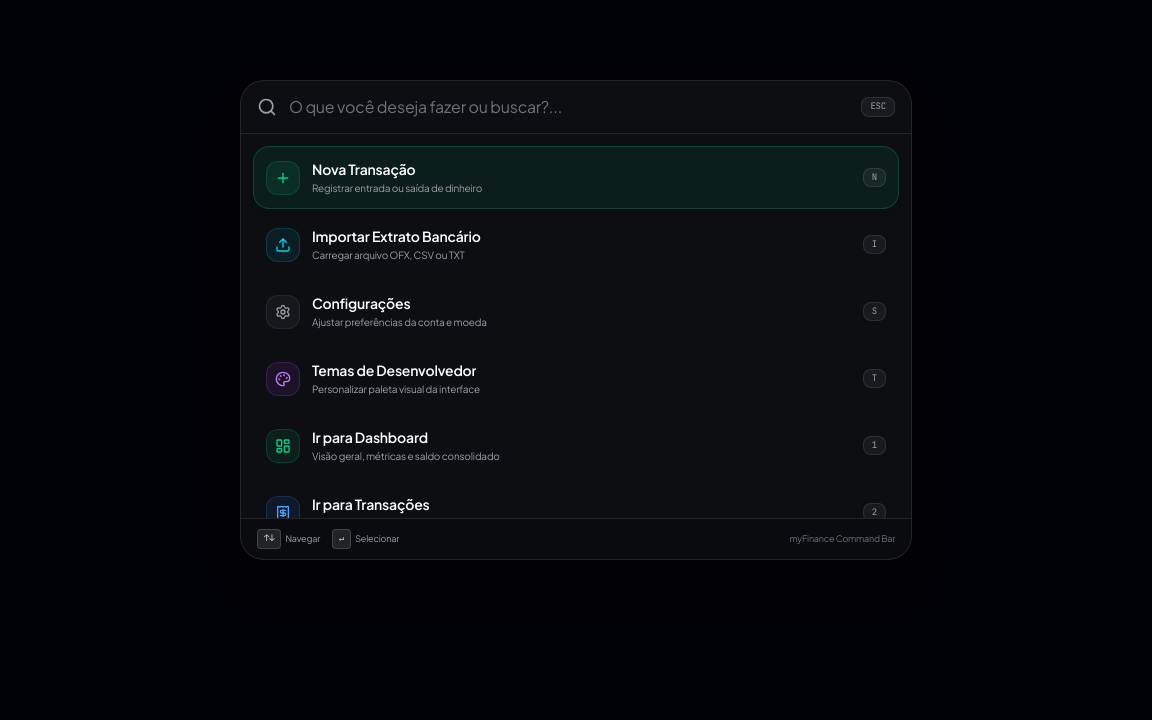
it: <CommandPaletteModal /> (Paleta de Comandos Global Ctrl+K) › deve encontrar e exibir transações que coincidem com a busca
The image size is (1152, 720).
Type "Academia" into the field with placeholder "O que você deseja fazer ou buscar?...". click: [569, 107]
box: [289,95,849,119]
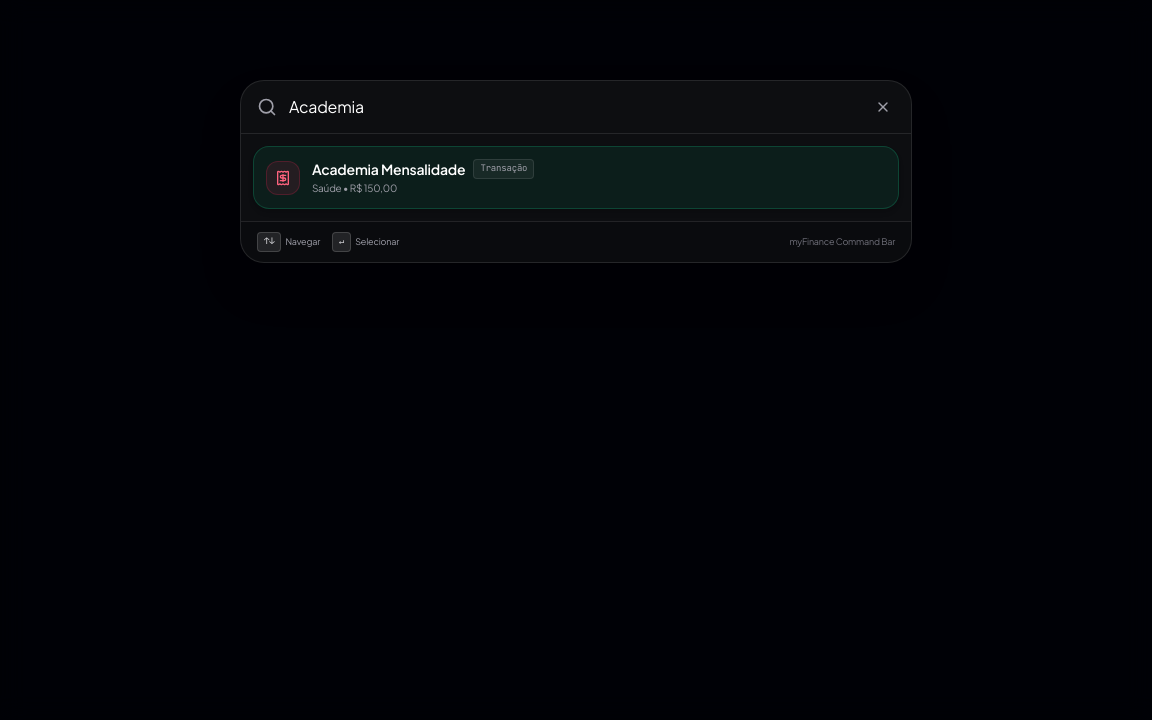
Expected: the text "Academia Mensalidade" is shown, [312,159,466,179]
Expected: the text "Saúde • R$ 150,00" is shown, [312,182,397,194]
